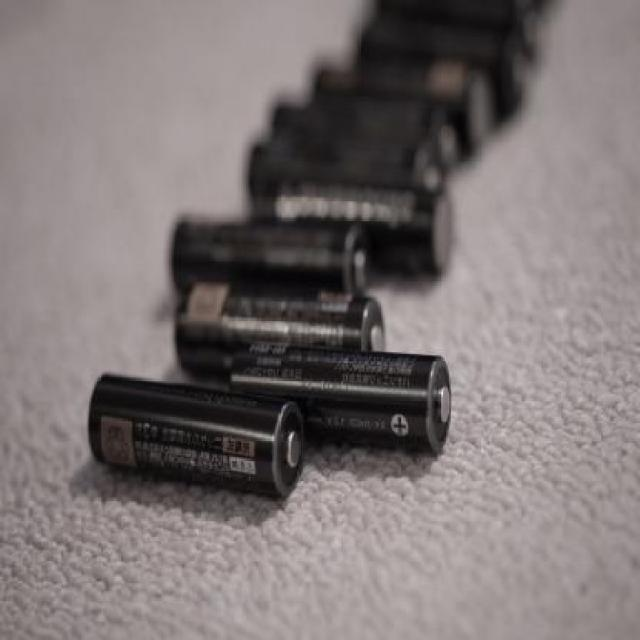hazardous waste: (60, 360, 309, 506), (231, 332, 457, 460), (170, 274, 384, 386)
